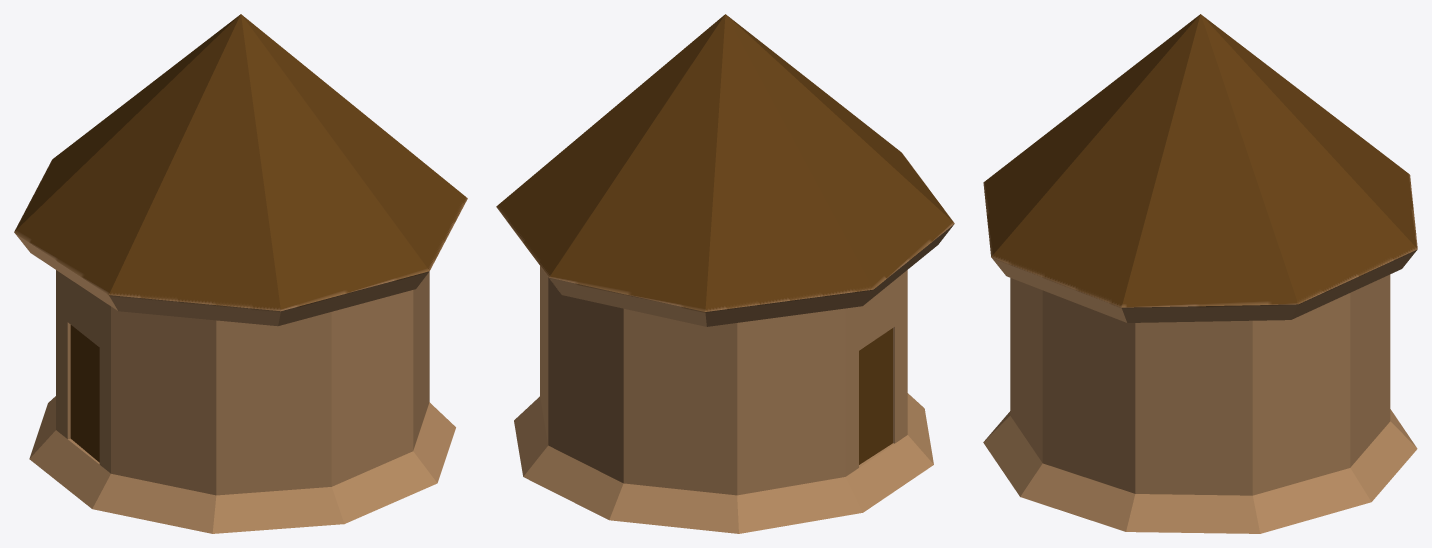
File: Hut 1.fbx
3 views of the same model, side by side, from view 1: azimuth 30°, elevation 25°; view 2: azimuth 150°, elevation 25°; view 3: azimuth 270°, elevation 25° (orthographic).
Visible parts, largest first — view 1: Hut_1; view 2: Hut_1; view 3: Hut_1.
Boxes of the visible parts, x1,y1,x2,y2 form: Hut_1: [14, 14, 467, 533]; Hut_1: [496, 14, 954, 533]; Hut_1: [983, 14, 1417, 533].
Bounding box in the file's own units: 541 × 595 × 542.
1 material, 1 textured.
